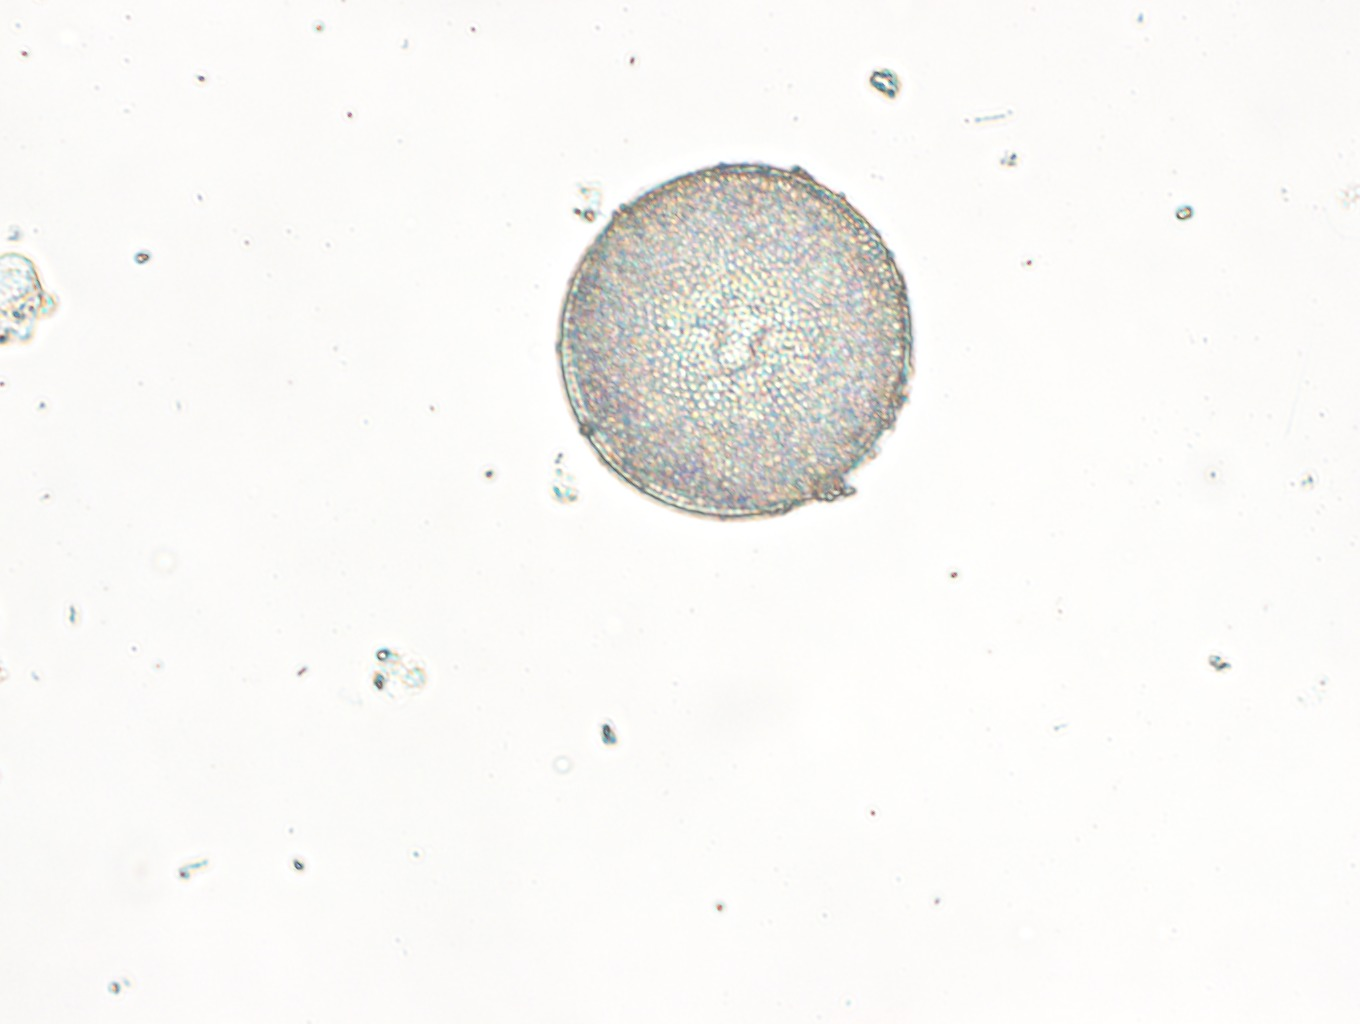coscinodiscus: (558, 160, 911, 516)
